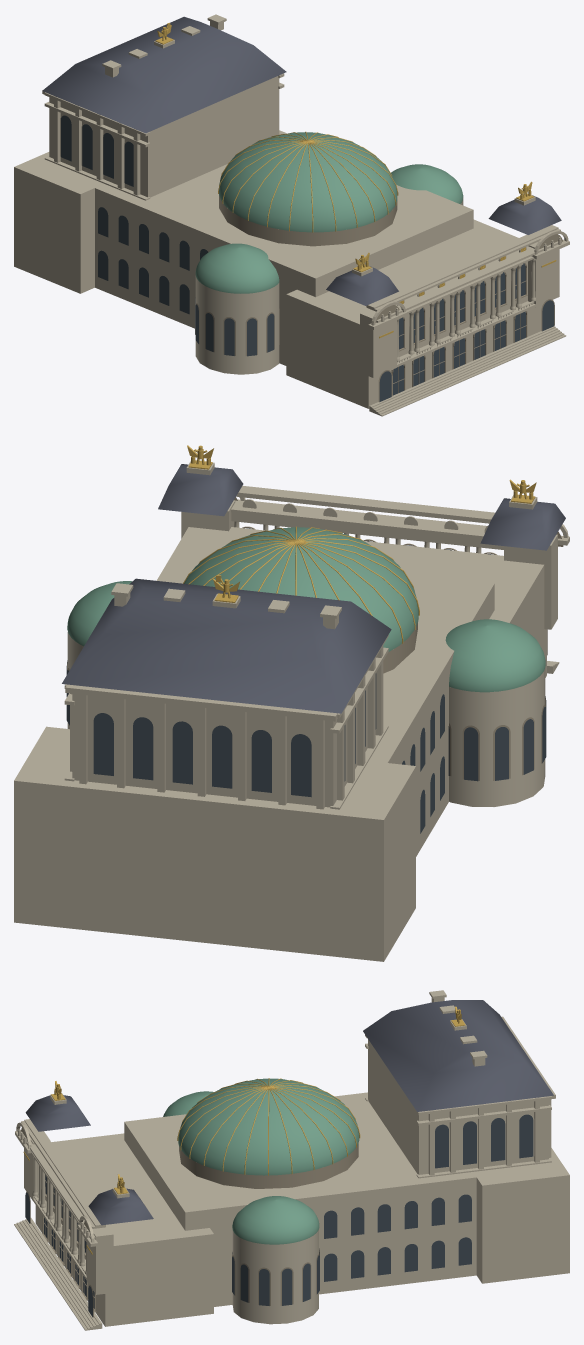
Rendered from paris-palais-garnier-near.glb.
3 renders of one model, top to bottom at view 1: azimuth 30°, elevation 25°; view 2: azimuth 150°, elevation 25°; view 3: azimuth 270°, elevation 25°, orthographic. The views are drawn at different scales.
Visible parts, largest first — view 1: paris-palais-garnier-stone, paris-palais-garnier-patina, paris-palais-garnier-roof, paris-palais-garnier-shadow, paris-palais-garnier-stoneDark, paris-palais-garnier-gold; view 2: paris-palais-garnier-stone, paris-palais-garnier-roof, paris-palais-garnier-patina, paris-palais-garnier-shadow, paris-palais-garnier-gold, paris-palais-garnier-stoneDark; view 3: paris-palais-garnier-stone, paris-palais-garnier-patina, paris-palais-garnier-roof, paris-palais-garnier-shadow, paris-palais-garnier-stoneDark, paris-palais-garnier-gold.
Part boxes in pixels (left/top/right/bottom): paris-palais-garnier-stone: left=14, top=14, right=569, bottom=416; paris-palais-garnier-patina: left=195, top=132, right=463, bottom=293; paris-palais-garnier-roof: left=42, top=16, right=561, bottom=305; paris-palais-garnier-shadow: left=61, top=115, right=554, bottom=401; paris-palais-garnier-stoneDark: left=195, top=195, right=562, bottom=401; paris-palais-garnier-gold: left=155, top=22, right=556, bottom=338; paris-palais-garnier-stone: left=14, top=461, right=569, bottom=961; paris-palais-garnier-roof: left=62, top=464, right=565, bottom=713; paris-palais-garnier-patina: left=67, top=527, right=545, bottom=692; paris-palais-garnier-shadow: left=66, top=528, right=546, bottom=833; paris-palais-garnier-gold: left=183, top=445, right=536, bottom=643; paris-palais-garnier-stoneDark: left=67, top=497, right=563, bottom=780; paris-palais-garnier-stone: left=14, top=990, right=569, bottom=1330; paris-palais-garnier-patina: left=163, top=1078, right=359, bottom=1244; paris-palais-garnier-roof: left=25, top=1000, right=553, bottom=1225; paris-palais-garnier-shadow: left=25, top=1114, right=533, bottom=1317; paris-palais-garnier-stoneDark: left=21, top=1127, right=358, bottom=1317; paris-palais-garnier-gold: left=23, top=1006, right=465, bottom=1254.
Size of the model in its own units: 117 by 72.05 by 164.
